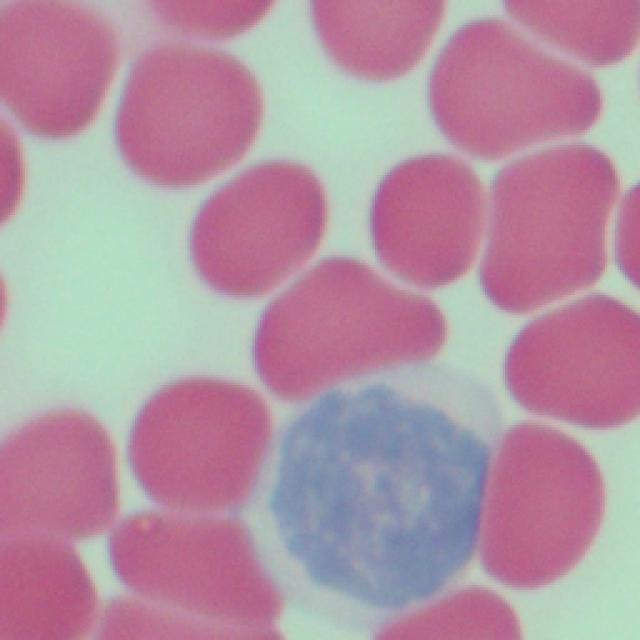RBC: (420, 13, 608, 261), (114, 361, 268, 623), (472, 129, 622, 327), (107, 8, 253, 203), (472, 412, 606, 590), (103, 502, 275, 640), (179, 156, 314, 309), (254, 269, 448, 375), (0, 376, 111, 553), (498, 297, 638, 437), (361, 146, 489, 297), (1, 0, 118, 146), (297, 0, 444, 84), (497, 0, 638, 68), (425, 577, 525, 640)
WBC: (265, 397, 489, 594)
